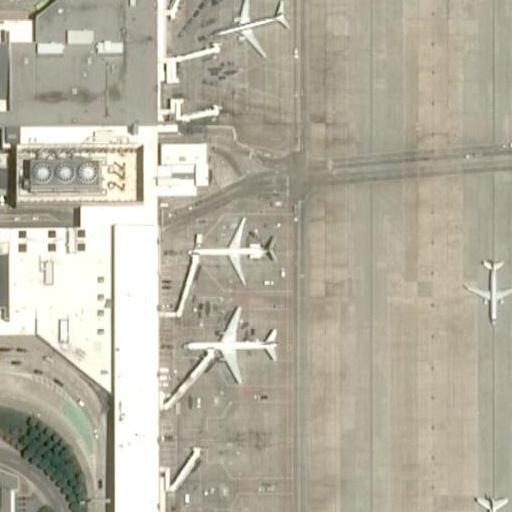Aircraft: (181, 308, 275, 382), (188, 217, 276, 283), (212, 0, 293, 58), (466, 258, 512, 323), (452, 491, 512, 512)
